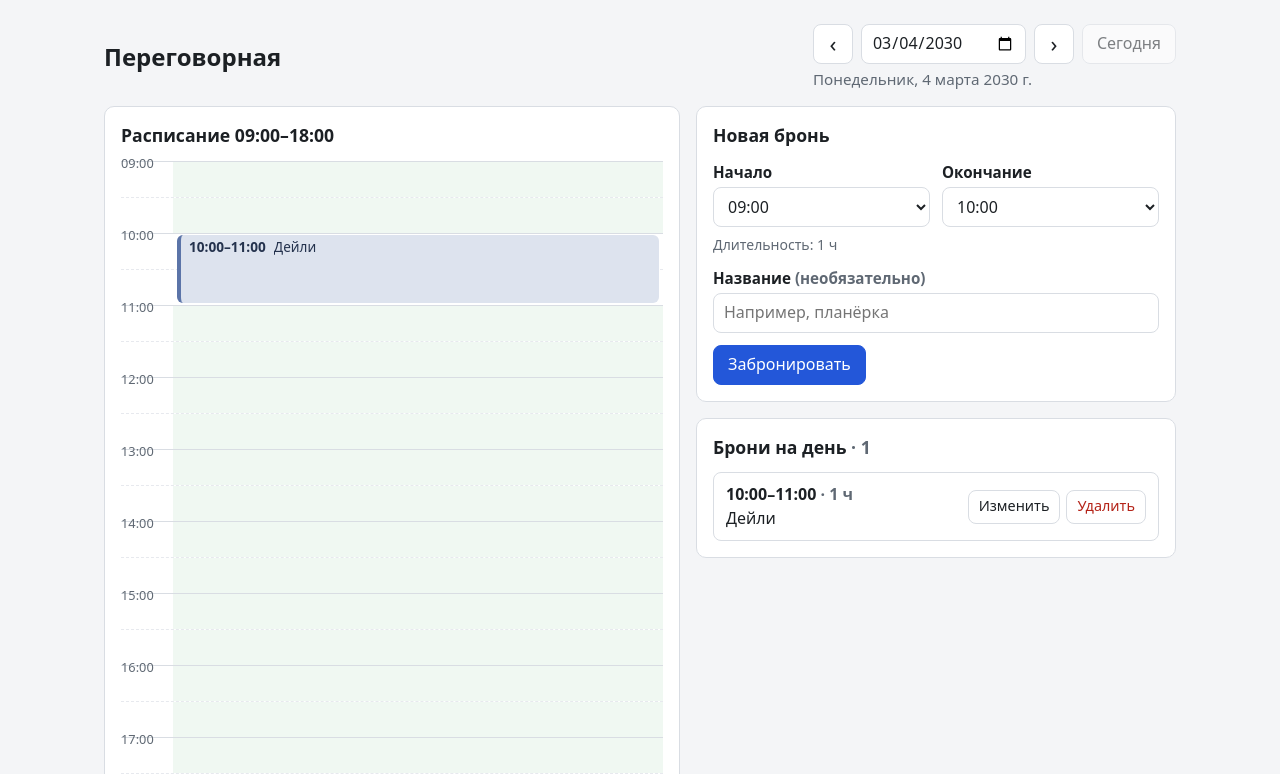
Scenario: BookingPage › keeps the suggested time after a 409 even if the user did not touch the form
Expected: the text "Дейли" below "Брони на день" is shown, [726, 507, 776, 529]
Expected: the dropdown labelled "Начало" shows "09:00", [713, 187, 930, 227]
Click the button "Забронировать": (789, 365) [713, 345, 866, 385]
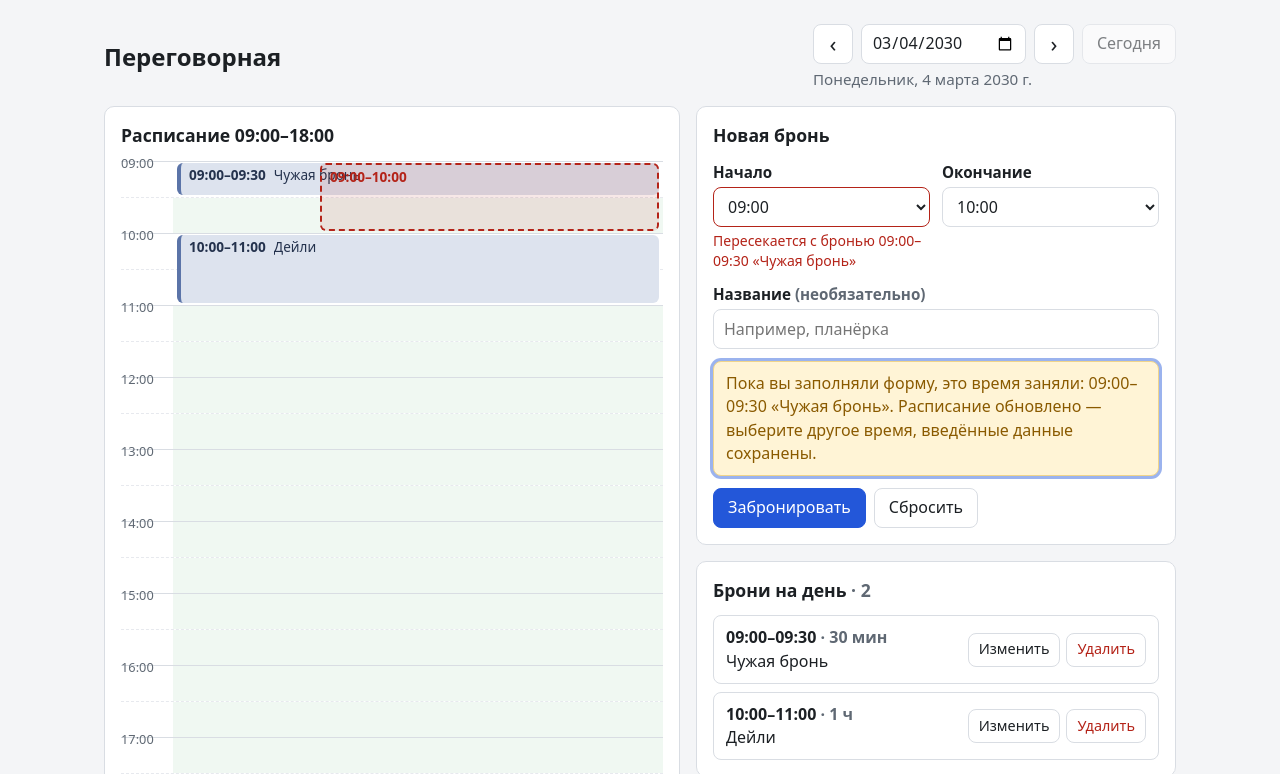
Expected: the dropdown labelled "Начало" shows "09:00", [713, 187, 930, 227]
Now the text "Чужая бронь" below "30 мин" is shown, box [726, 650, 828, 672]
Now the message shows "это время заняли", box [726, 372, 1137, 464]
